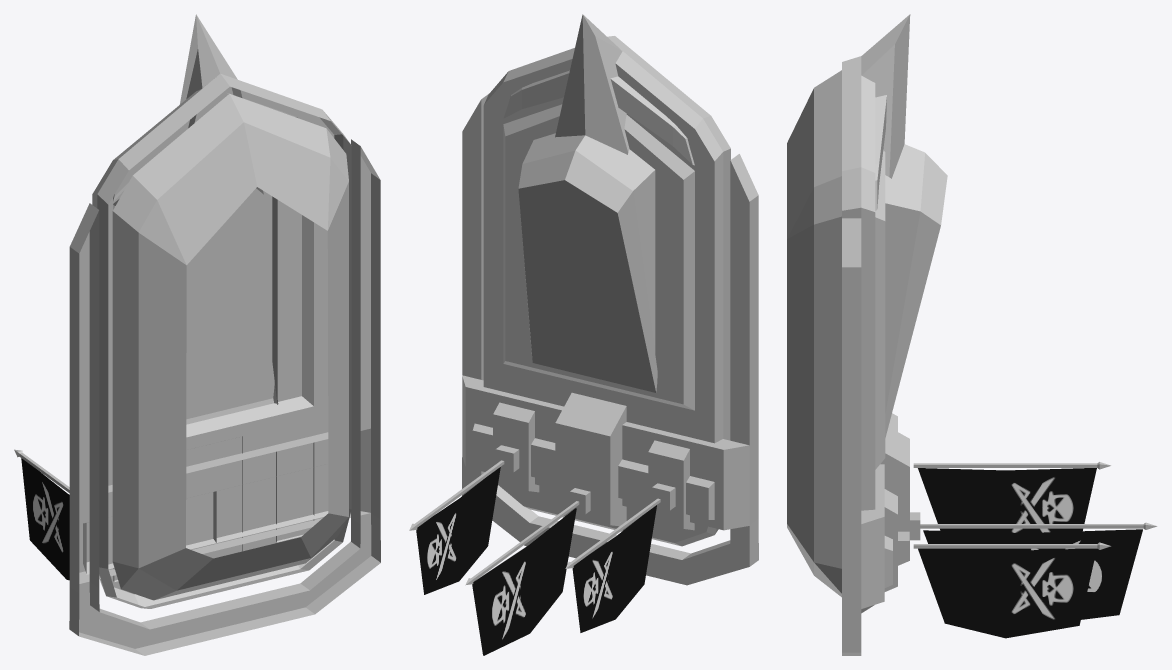
Rendered from pirate_guide_my_ship_7.fbx.
The picture shows the model from 3 angles, left to right: view 1: azimuth 30°, elevation 25°; view 2: azimuth 150°, elevation 25°; view 3: azimuth 270°, elevation 25°; orthographic projection. The views are drawn at different scales.
Visible parts, largest first — view 1: Cube.410; view 2: Cube.410; view 3: Cube.410.
Boxes of the visible parts, box(x1,y1,x2,y2) form: Cube.410: box(14, 14, 380, 655); Cube.410: box(409, 14, 758, 655); Cube.410: box(787, 14, 1157, 655).
Size of the model in its own units: 364 by 702 by 385.
